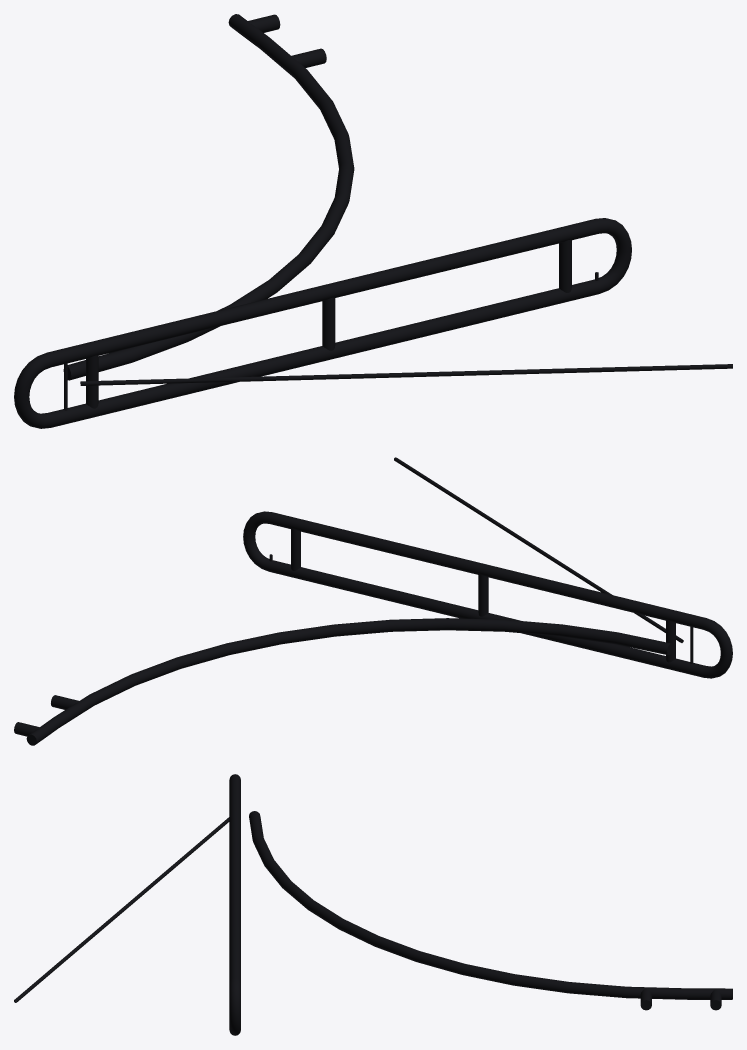
File: Urbi_3_x2390_y-1051_ae_h11200.obj
3 renders of one model, top to bottom at view 1: azimuth 30°, elevation 25°; view 2: azimuth 150°, elevation 25°; view 3: azimuth 270°, elevation 25°, orthographic. The views are drawn at different scales.
Visible parts, largest first — view 1: Querträger_einfach, Bogenausleger, Spannseil, Querträgerstreben; view 2: Querträger_einfach, Bogenausleger, Spannseil, Querträgerstreben; view 3: Bogenausleger, Querträger_einfach, Spannseil.
Part boxes in pixels (x1,y1,x2,y2): Querträger_einfach: (14, 218, 631, 428); Bogenausleger: (63, 14, 354, 380); Spannseil: (80, 364, 732, 385); Querträgerstreben: (86, 240, 571, 408); Querträger_einfach: (243, 511, 732, 678); Bogenausleger: (14, 618, 672, 745); Spannseil: (394, 457, 683, 642); Querträgerstreben: (291, 529, 675, 662); Bogenausleger: (249, 811, 732, 1010); Querträger_einfach: (229, 774, 240, 1035); Spannseil: (14, 817, 229, 1002).
Size of the model in its own units: 2.77 by 0.3199 by 3.74.
Materials: 1 (1 with a texture image).
